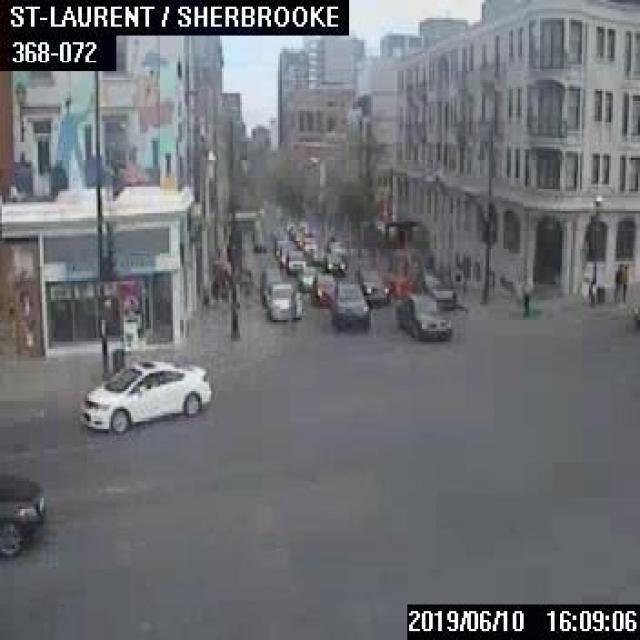pedestrian: (612, 260, 622, 302), (621, 262, 628, 301)
vehicle: (80, 356, 209, 434), (0, 471, 45, 553), (396, 293, 451, 338), (329, 282, 368, 326), (263, 281, 303, 320), (422, 274, 454, 306), (357, 268, 389, 300), (258, 265, 283, 305), (309, 272, 336, 302), (295, 264, 320, 290), (238, 262, 255, 300), (321, 250, 345, 274), (284, 248, 304, 272), (278, 243, 300, 264), (273, 236, 293, 257), (300, 234, 316, 253), (308, 246, 324, 262)
